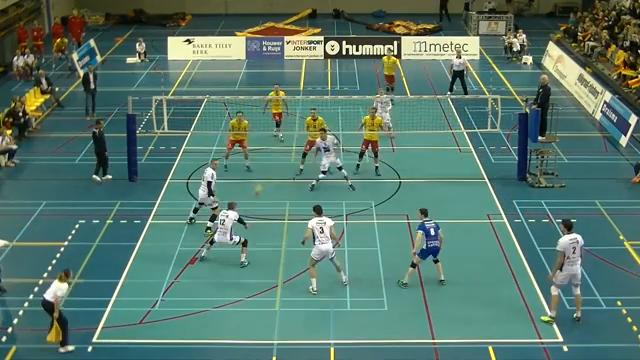Player: (541, 219, 583, 323), (301, 205, 347, 294), (397, 208, 445, 287), (309, 128, 354, 190), (187, 160, 219, 235), (297, 108, 327, 174), (354, 107, 382, 175), (223, 111, 251, 171), (263, 84, 288, 141), (374, 89, 393, 137), (382, 49, 397, 95)
Receive: (195, 198, 253, 269)
ball: (251, 182, 264, 197)
